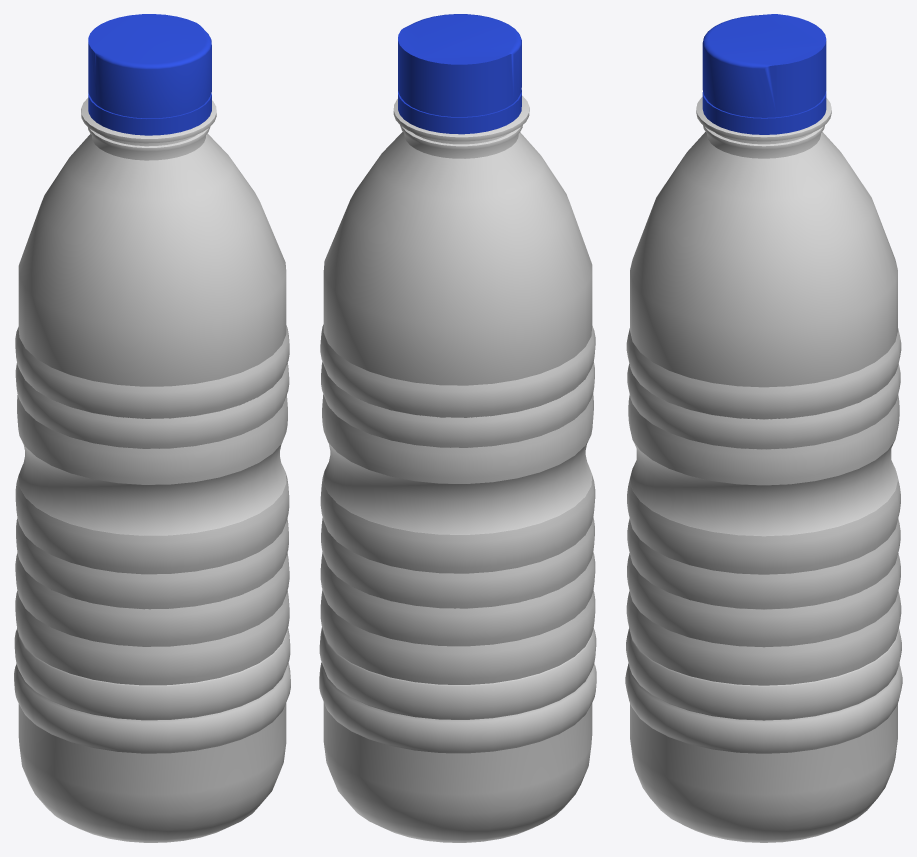
The model's file is bottle.fbx.
3 views of the same model, side by side, from view 1: azimuth 30°, elevation 25°; view 2: azimuth 150°, elevation 25°; view 3: azimuth 270°, elevation 25° (orthographic).
Visible parts, largest first — view 1: Cylinder, bottle cap; view 2: Cylinder, bottle cap; view 3: Cylinder, bottle cap.
Part boxes in pixels (<box>): Cylinder: <box>14,98,290,842</box>; bottle cap: <box>88,14,211,135</box>; Cylinder: <box>319,95,596,842</box>; bottle cap: <box>398,14,521,134</box>; Cylinder: <box>625,97,902,842</box>; bottle cap: <box>702,14,826,134</box>.
Bounding box in the file's own units: 153 × 466 × 153.
